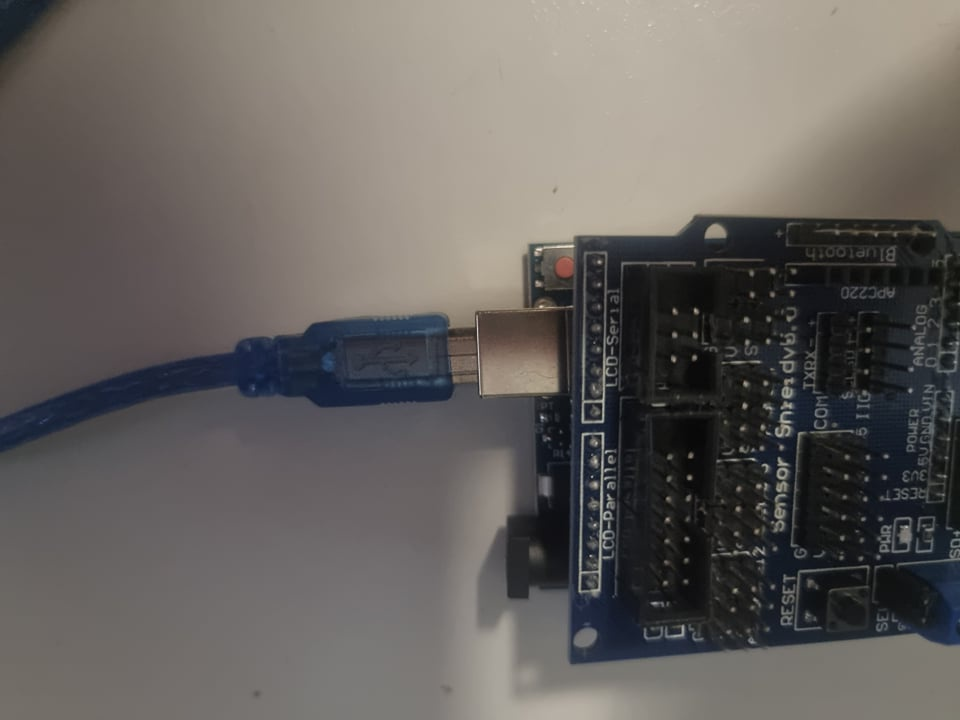5V EXPANSION: (573, 203, 960, 654)
UNO R3: (473, 225, 570, 667)
